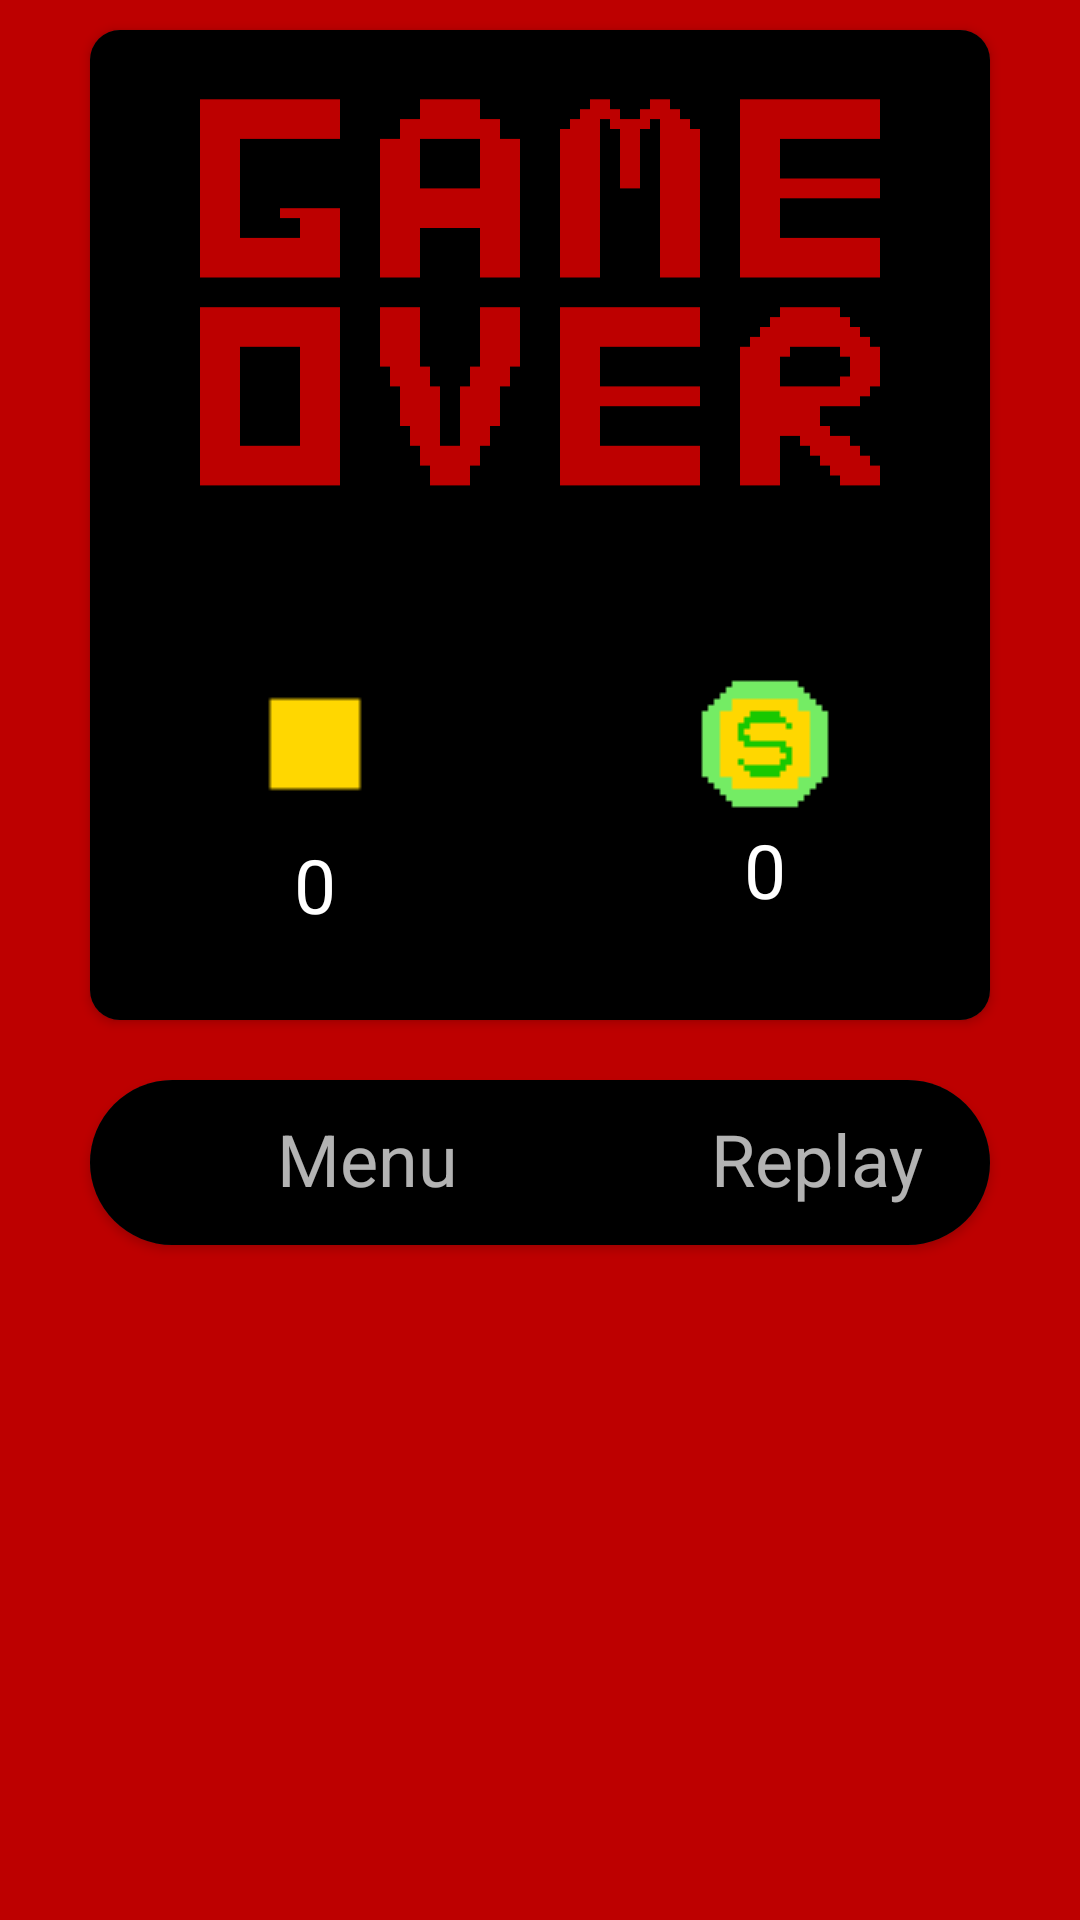

Named icons in this screenshot (1080*1920) and their centers, [x,y]:
snake coin: [765,744]
